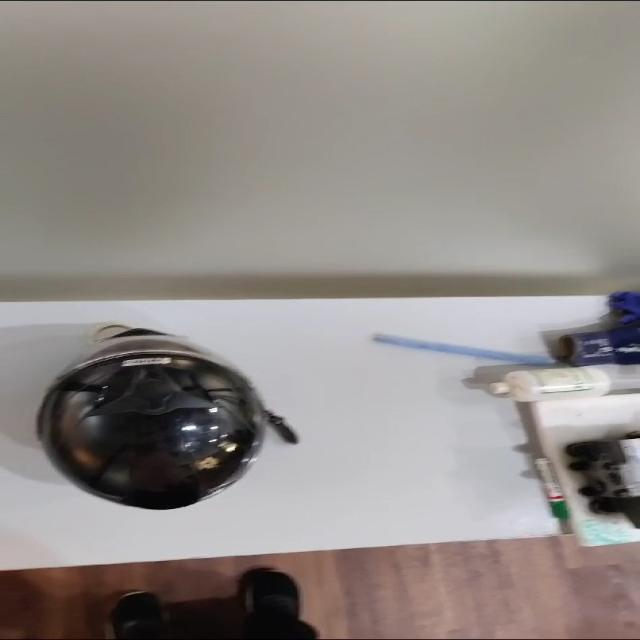helmet: (38, 325, 297, 509)
